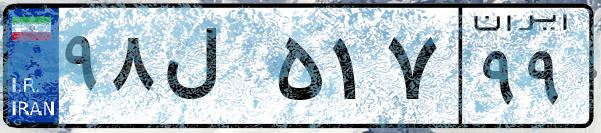1: (330, 28, 385, 110)
5: (270, 28, 330, 110)
7: (385, 28, 445, 110)
8: (110, 28, 158, 98)
9: (57, 26, 110, 100), (475, 38, 525, 113), (525, 38, 570, 115)
ل: (158, 20, 270, 120)
